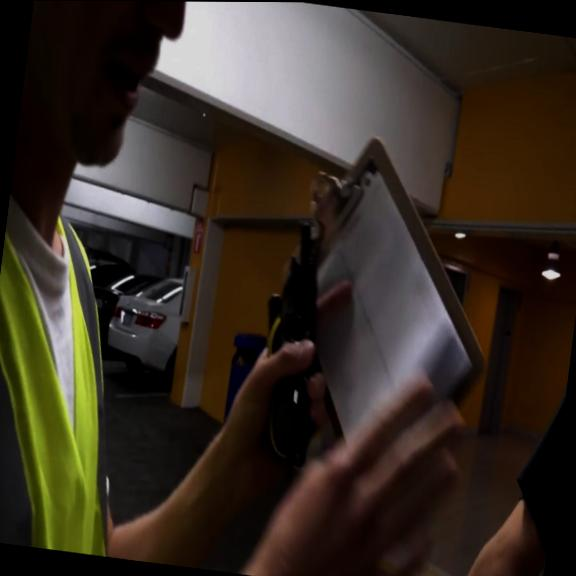safety_vest: (0, 198, 150, 556), (514, 355, 570, 576)
